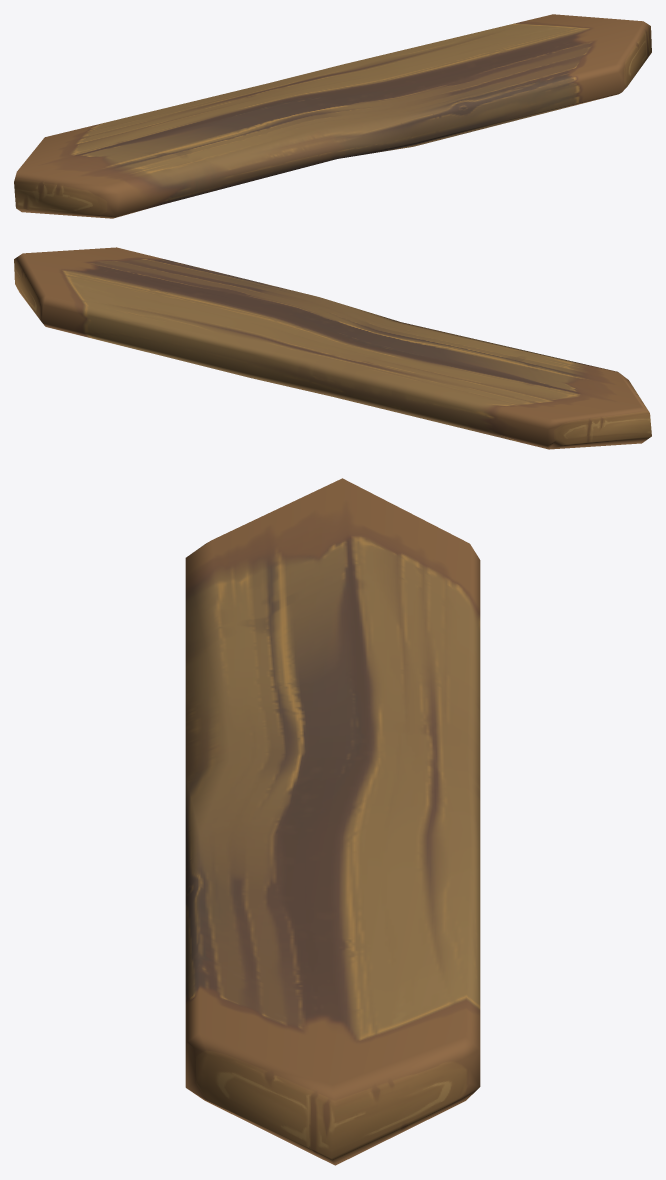
Rendered from SM_MOD_basic_plank_sloped_town_03.fbx.
3 views of the same model, one above another, from view 1: azimuth 30°, elevation 25°; view 2: azimuth 150°, elevation 25°; view 3: azimuth 270°, elevation 25° (orthographic). The views are drawn at different scales.
Parts seen in each view (by area): view 1: SM_MOD_basic_plank_sloped_town_03_LOD0; view 2: SM_MOD_basic_plank_sloped_town_03_LOD0; view 3: SM_MOD_basic_plank_sloped_town_03_LOD0.
Boxes of the visible parts, left/top/right/bottom form: SM_MOD_basic_plank_sloped_town_03_LOD0: left=14, top=14, right=651, bottom=218; SM_MOD_basic_plank_sloped_town_03_LOD0: left=14, top=247, right=651, bottom=449; SM_MOD_basic_plank_sloped_town_03_LOD0: left=185, top=478, right=480, bottom=1165.
Size of what is drawn, in the model's own units: 141 by 8.29 by 28.37.
